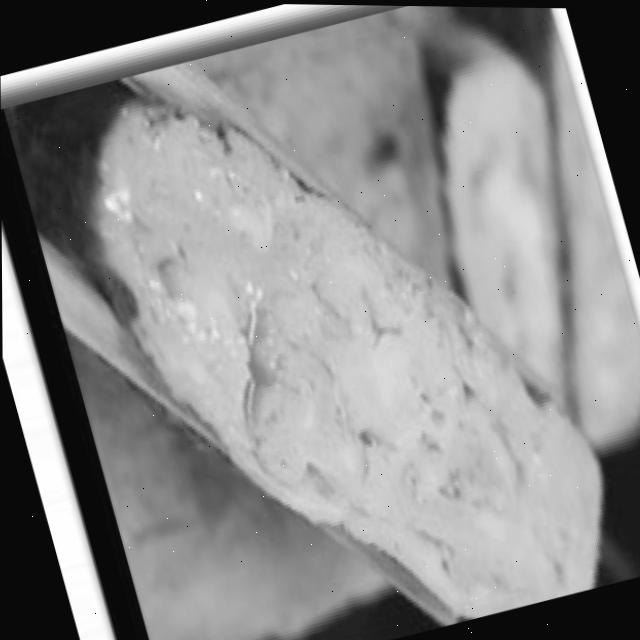鸡蛋料理: (48, 25, 640, 640)
